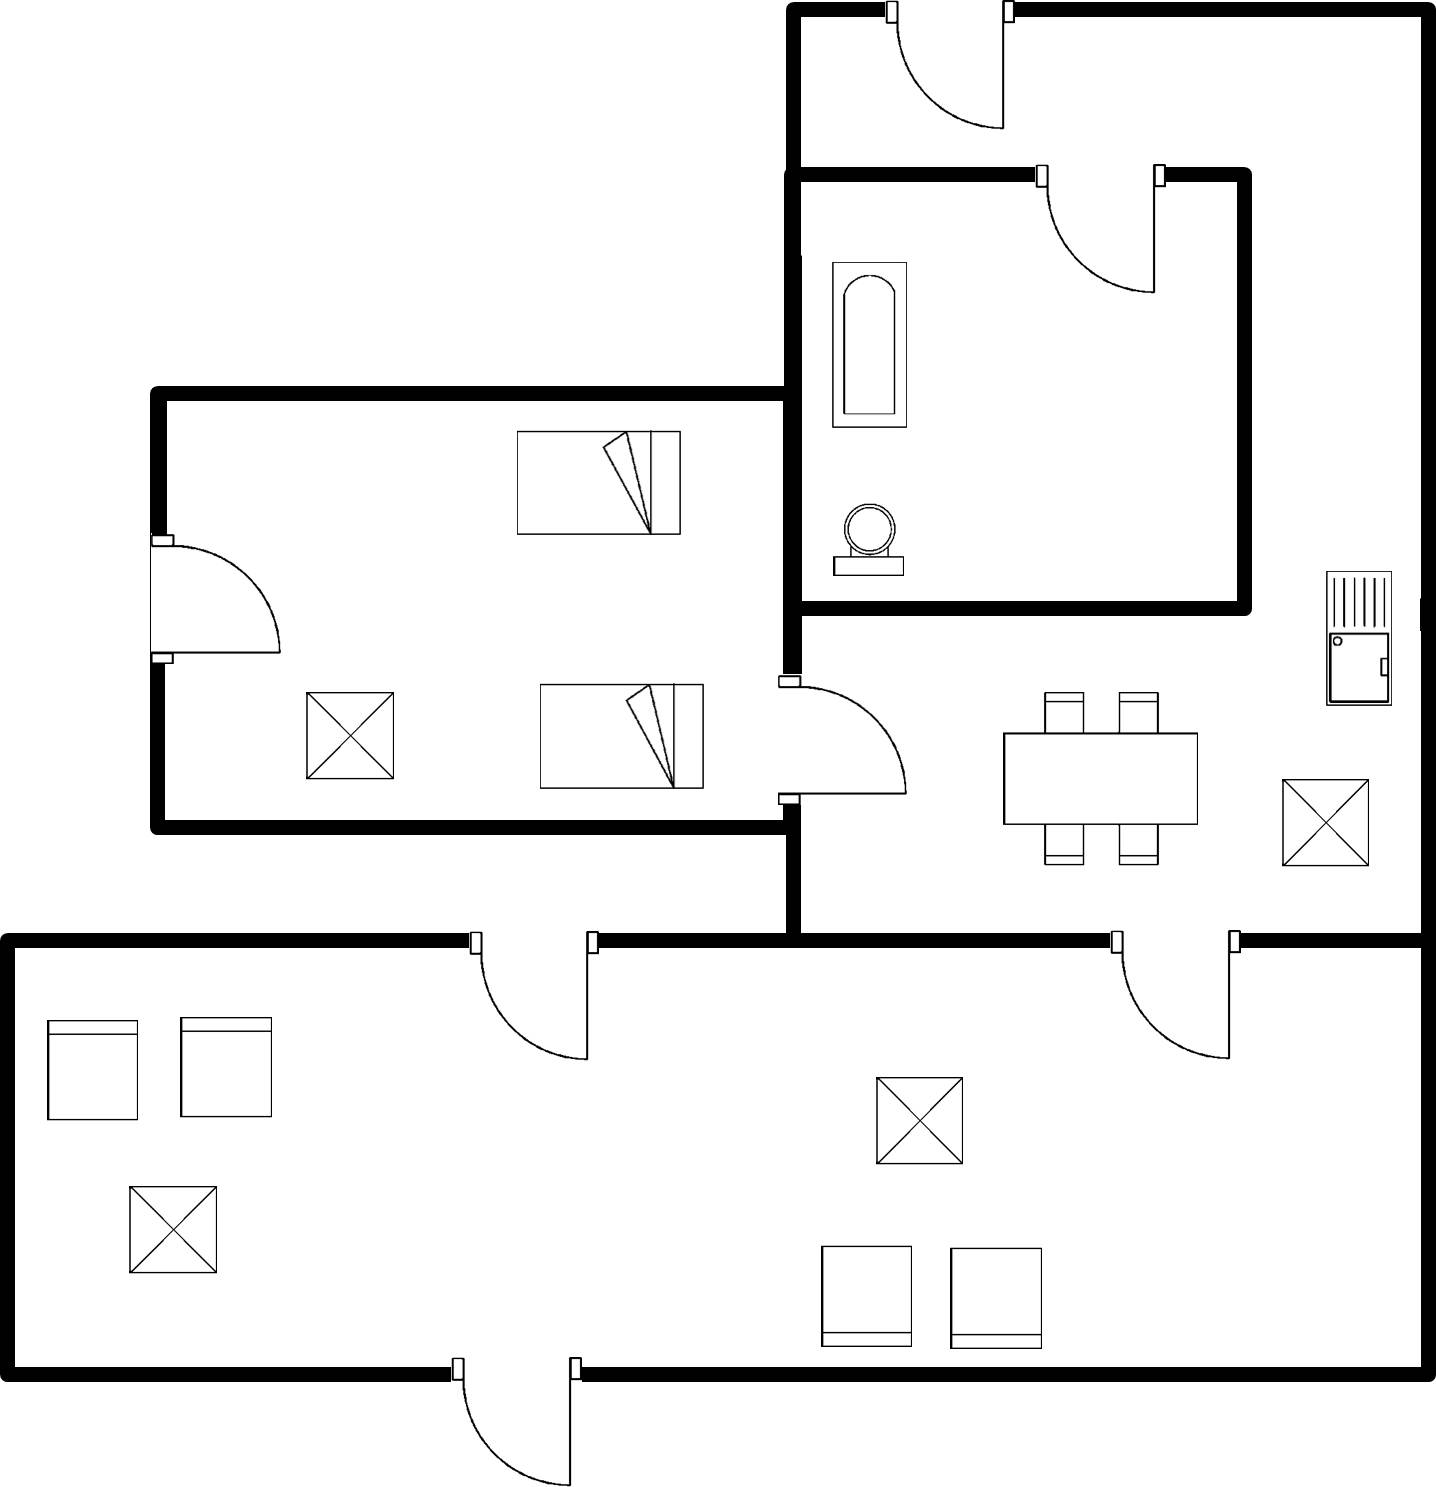bed: (529, 669, 719, 801), (506, 423, 691, 546)
coffee_table: (111, 1173, 235, 1289), (295, 678, 406, 791), (865, 1067, 977, 1179), (1269, 767, 1381, 876)
dining_table: (990, 681, 1211, 879)
large_sink: (820, 494, 913, 588)
sink: (1314, 560, 1401, 717)
small_sofa: (810, 1234, 927, 1354), (169, 1008, 282, 1130), (37, 1009, 149, 1133), (939, 1234, 1049, 1360)
tub: (822, 252, 917, 444)
